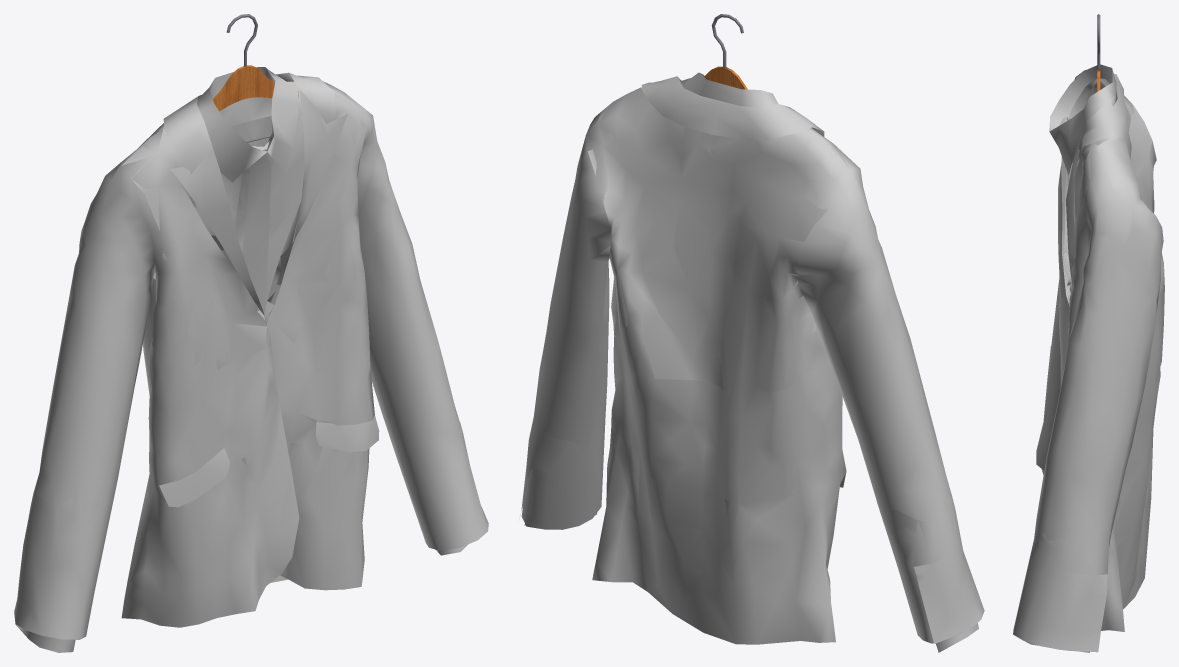
Rendered from suitjacket.FBX.
The picture shows the model from 3 angles, left to right: view 1: azimuth 30°, elevation 25°; view 2: azimuth 150°, elevation 25°; view 3: azimuth 270°, elevation 25°; orthographic projection. The views are drawn at different scales.
Visible parts, largest first — view 1: suitjacket_LOD0, _Hanger-1_LOD0; view 2: suitjacket_LOD0, _Hanger-1_LOD0; view 3: suitjacket_LOD0, _Hanger-1_LOD0.
Part boxes in pixels (x1,y1,x2,y2): suitjacket_LOD0: (14, 67, 488, 652); _Hanger-1_LOD0: (213, 14, 298, 142); suitjacket_LOD0: (520, 72, 984, 652); _Hanger-1_LOD0: (704, 14, 747, 89); suitjacket_LOD0: (1013, 64, 1164, 652); _Hanger-1_LOD0: (1097, 14, 1100, 91).
Size of what is drawn, in the model's own units: 67.96 by 20.32 by 85.41.
